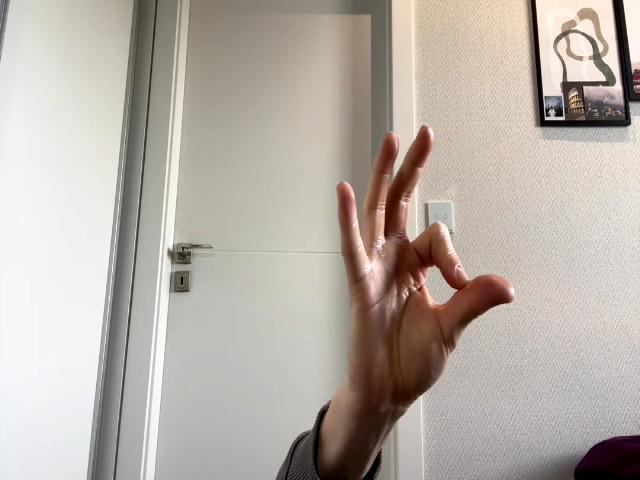S: (336, 123, 517, 404)
